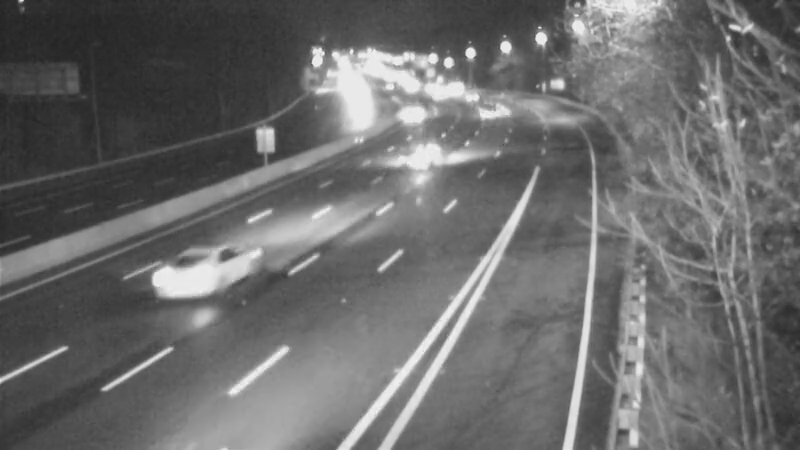vehicle: (394, 116, 474, 196), (150, 241, 230, 321), (441, 72, 491, 122), (385, 86, 435, 136), (463, 89, 513, 139)
